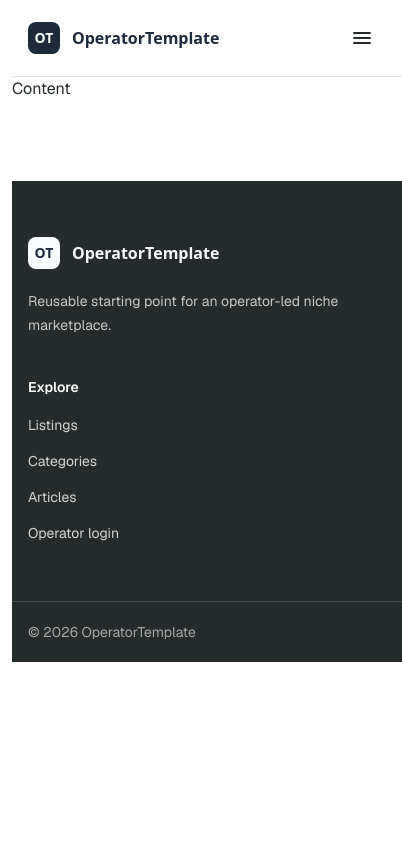
Scenario: PublicShell › opens and closes the mobile menu
Step 1. Click the button named "Open menu" → (362, 38), box [338, 14, 386, 62]
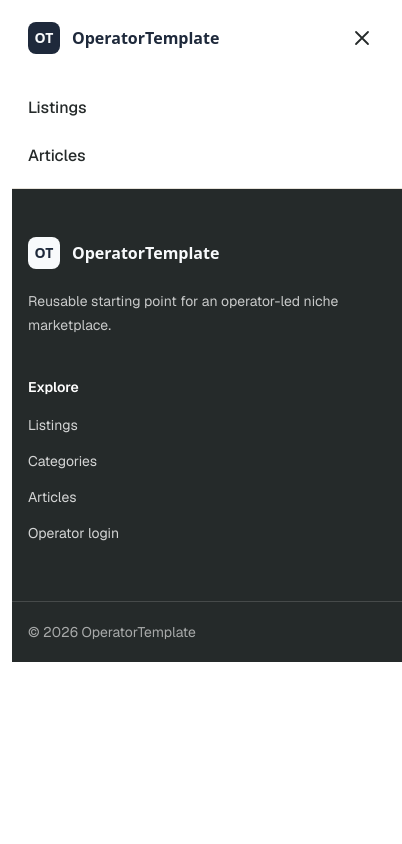
Expected: the button named "Close menu" is shown, [338, 14, 386, 62]
Step 2. Press Escape
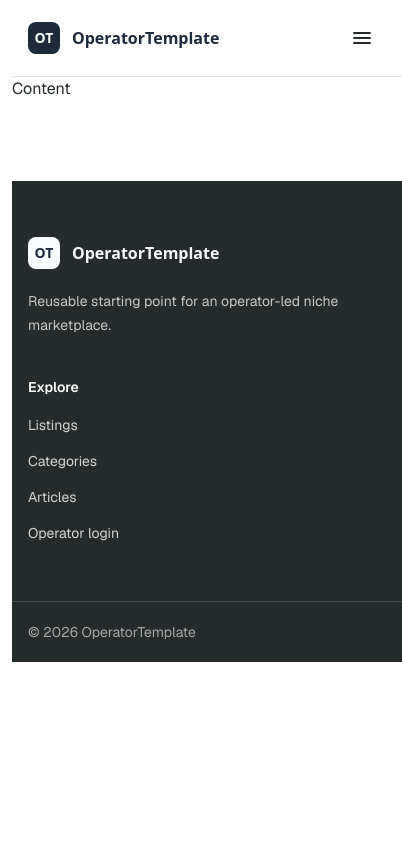
Expected: the button named "Open menu" is shown, [338, 14, 386, 62]
